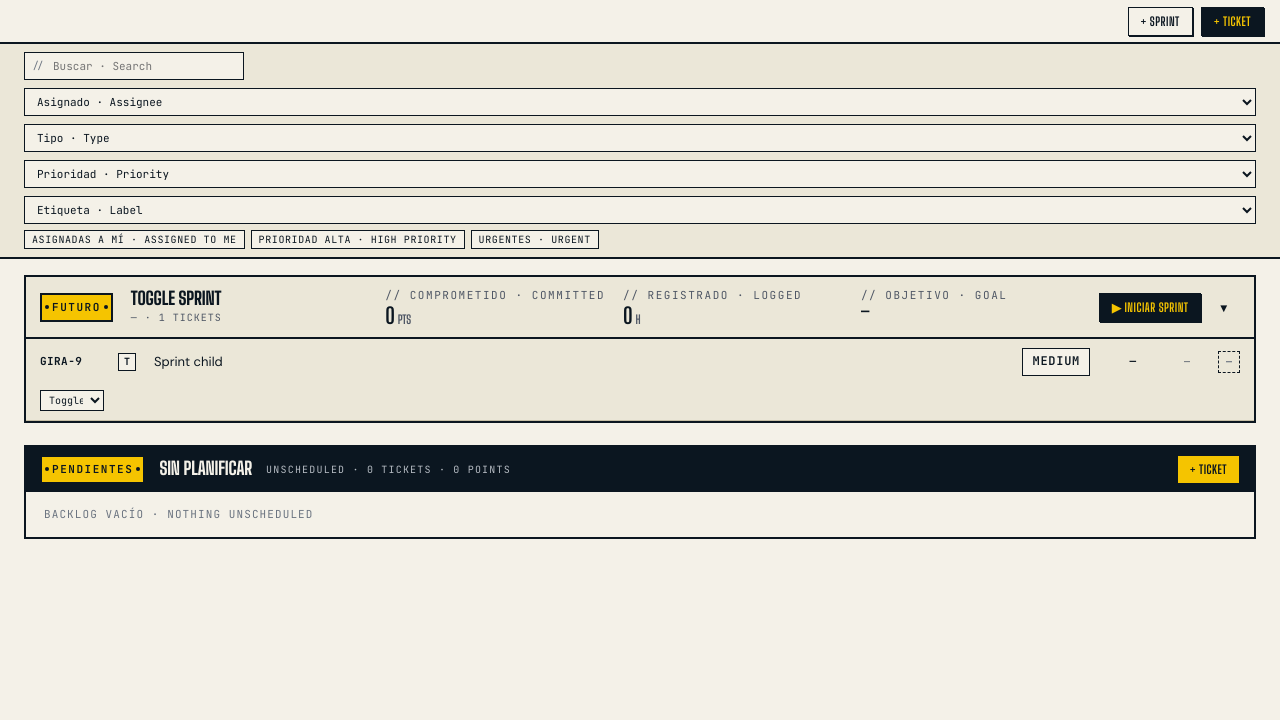
Test case: BacklogPage › collapses and expands a sprint group with the toggle button
Expected: the text "Sprint child" is shown, x1=154 y1=353 x2=223 y2=370
# collapse toggle (▾ when open)
What coordinates should you click on to do the following:
click the button "▾"
I would click on:
 (1224, 307)
Its box is x1=1208 y1=293 x2=1240 y2=322.
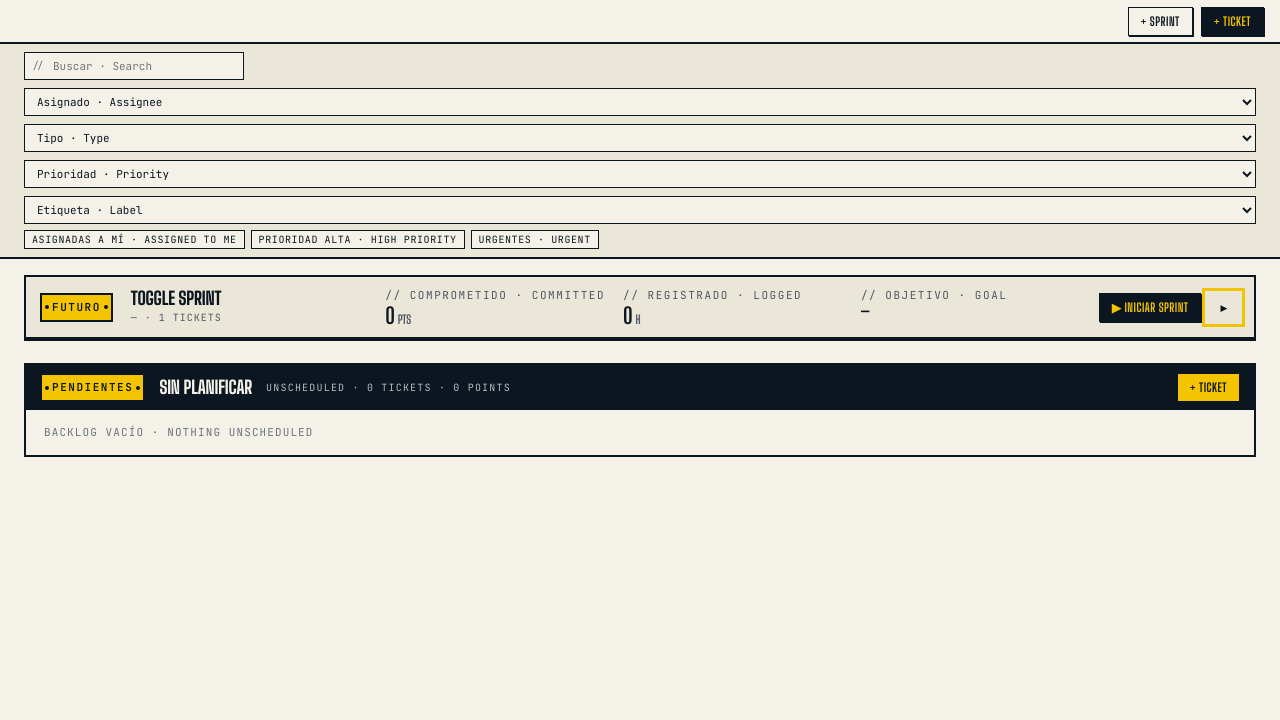
Now the text "Sprint child" is gone
# expand again (▸ when closed)
What coordinates should you click on to do the following:
click the button "▸"
I would click on:
 (1224, 307)
Its box is x1=1208 y1=293 x2=1240 y2=322.
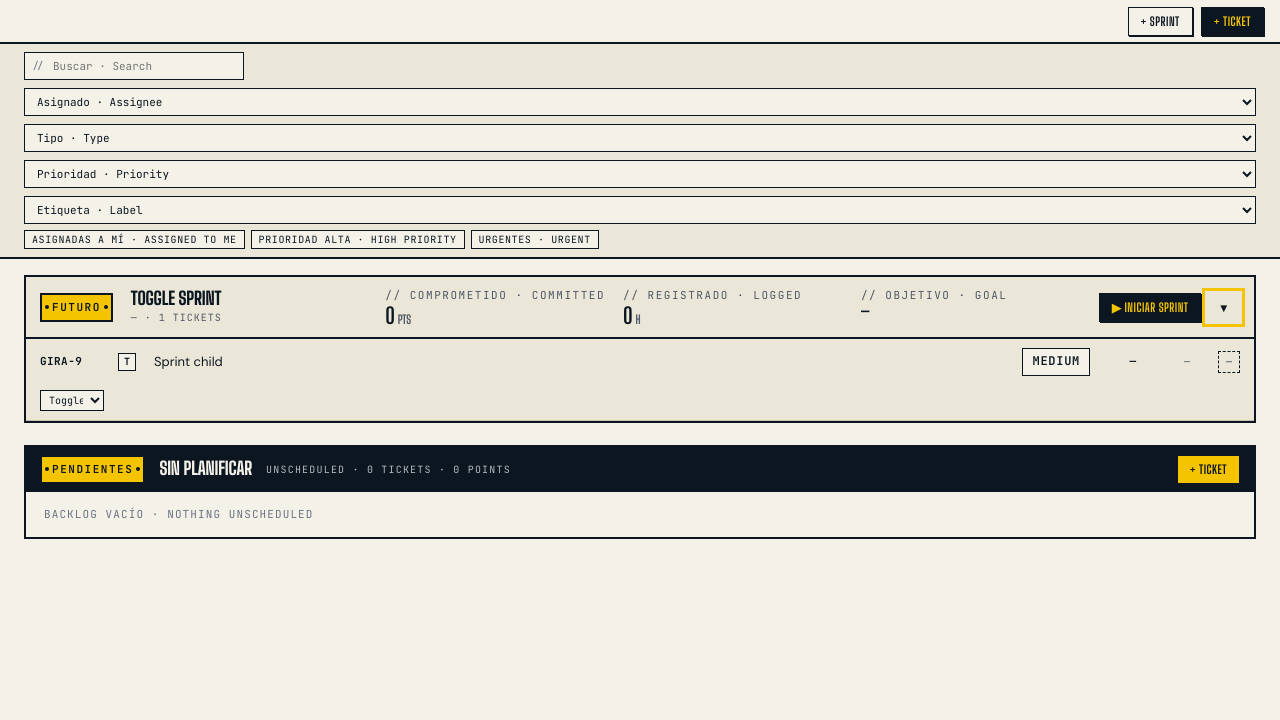
Now the text "Sprint child" is shown, box x1=154 y1=353 x2=223 y2=370
